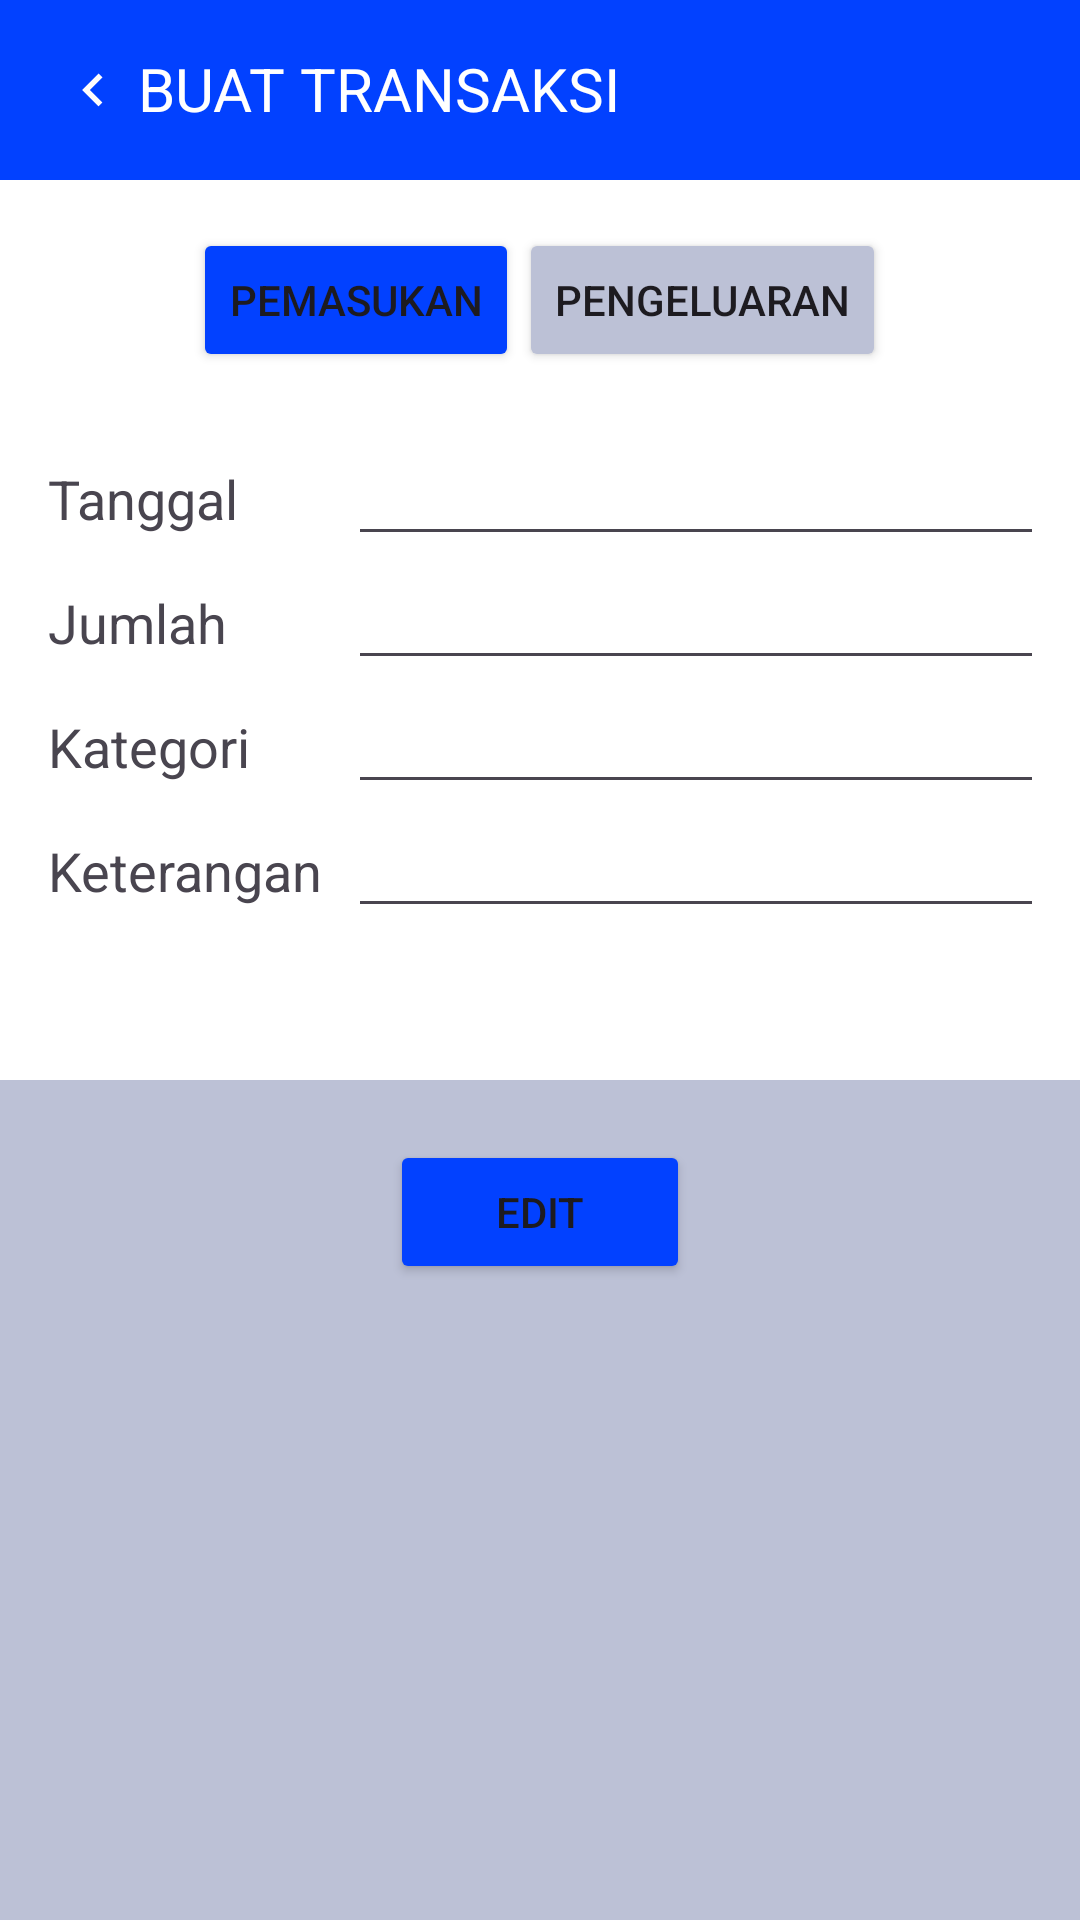

Where icons sit on this 1080px x 1920px app screen, as box=[x1, y1, x2, y2]:
kiri: box=[82, 73, 103, 107]
